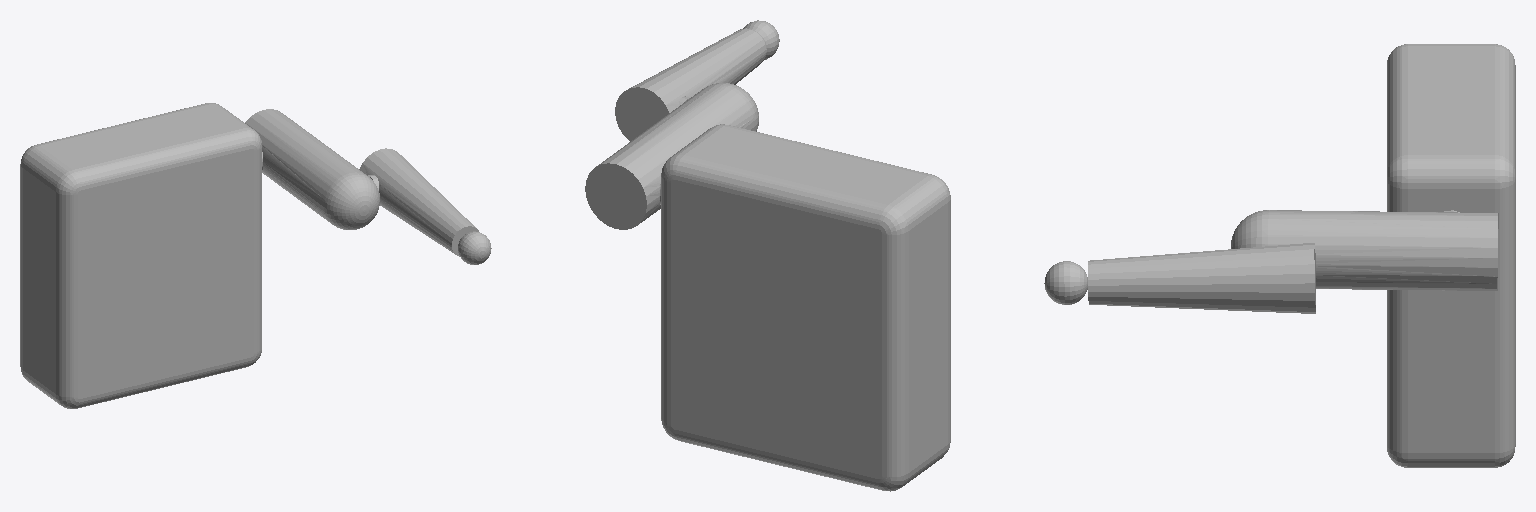
robot.urdf — humanURDF:
<?xml version="1.0" encoding="utf-8"?>
<!-- This URDF was automatically created by SolidWorks to URDF Exporter! Originally created by [author] ([email redacted]) 
     Commit Version: 1.6.0-1-g15f4949  Build Version: 1.6.7594.29634
     For more information, please see http://wiki.ros.org/sw_urdf_exporter -->
<robot
  name="humanURDF">
  <link
    name="base_link">
    <inertial>
      <origin
        xyz="-0.147380279946403 4.09803356324946E-18 -0.183688926406411"
        rpy="0 0 0" />
      <mass
        value="21.1782903595475" />
      <inertia
        ixx="0.314167968794279"
        ixy="-1.57515840667926E-17"
        ixz="-0.00152092128911395"
        iyy="0.500403583328166"
        iyz="-1.31389883452136E-09"
        izz="0.26323408507304" />
    </inertial>
    <visual>
      <origin
        xyz="0 0 0"
        rpy="0 0 0" />
      <geometry>
        <mesh
          filename="package://humanURDF/meshes/base_link.STL" />
      </geometry>
      <material
        name="">
        <color
          rgba="0.749019607843137 0.749019607843137 0.749019607843137 1" />
      </material>
    </visual>
    <collision>
      <origin
        xyz="0 0 0"
        rpy="0 0 0" />
      <geometry>
        <mesh
          filename="package://humanURDF/meshes/base_link.STL" />
      </geometry>
    </collision>
  </link>
  <link
    name="brazo_link">
    <inertial>
      <origin
        xyz="0.0501986538571646 -0.0977300384950257 0.00176645149512299"
        rpy="0 0 0" />
      <mass
        value="1.97753622371589" />
      <inertia
        ixx="0.0157981761158755"
        ixy="-2.6966120279389E-05"
        ixz="-1.59507260844094E-06"
        iyy="0.00211316900882633"
        iyz="0.000112507197754403"
        izz="0.0158808780480386" />
    </inertial>
    <visual>
      <origin
        xyz="0 0 0"
        rpy="0 0 0" />
      <geometry>
        <mesh
          filename="package://humanURDF/meshes/brazo_link.STL" />
      </geometry>
      <material
        name="">
        <color
          rgba="0.749019607843137 0.749019607843137 0.749019607843137 1" />
      </material>
    </visual>
    <collision>
      <origin
        xyz="0 0 0"
        rpy="0 0 0" />
      <geometry>
        <mesh
          filename="package://humanURDF/meshes/brazo_link.STL" />
      </geometry>
    </collision>
  </link>
  <joint
    name="brazo_joint"
    type="continuous">
    <origin
      xyz="0.049284658059624 0 -0.0640498975439988"
      rpy="0 0 0" />
    <parent
      link="base_link" />
    <child
      link="brazo_link" />
    <axis
      xyz="-1 0 0" />
  </joint>
  <link
    name="antebrazo_link">
    <inertial>
      <origin
        xyz="0.0436519728379535 -0.0874871117981463 -0.00130930871816355"
        rpy="0 0 0" />
      <mass
        value="1.00812958445801" />
      <inertia
        ixx="0.00754277884263541"
        ixy="-0.000153723622133985"
        ixz="-3.53540231519263E-06"
        iyy="0.000601748852949274"
        iyz="-0.0001831113070396"
        izz="0.00751716655766249" />
    </inertial>
    <visual>
      <origin
        xyz="0 0 0"
        rpy="0 0 0" />
      <geometry>
        <mesh
          filename="package://humanURDF/meshes/antebrazo_link.STL" />
      </geometry>
      <material
        name="">
        <color
          rgba="0.749019607843137 0.749019607843137 0.749019607843137 1" />
      </material>
    </visual>
    <collision>
      <origin
        xyz="0 0 0"
        rpy="0 0 0" />
      <geometry>
        <mesh
          filename="package://humanURDF/meshes/antebrazo_link.STL" />
      </geometry>
    </collision>
  </link>
  <joint
    name="antebrazo_joint"
    type="continuous">
    <origin
      xyz="0.0893153894032891 -0.197868013214099 0.00343687354219388"
      rpy="0 0 0" />
    <parent
      link="brazo_link" />
    <child
      link="antebrazo_link" />
    <axis
      xyz="-0.999701434390246 0.011113823153 -0.0217606298854042" />
  </joint>
</robot>

--- Render facts (derived) ---
3 views of the same robot in one strip: view 1: azimuth 30°, elevation 25°; view 2: azimuth 150°, elevation 25°; view 3: azimuth 270°, elevation 25° (orthographic).
Robot: humanURDF — 3 links, 2 joints (2 continuous); root link base_link; default pose: all joints at 0.
Visible links, largest first — view 1: base_link, antebrazo_link, brazo_link; view 2: base_link, antebrazo_link, brazo_link; view 3: base_link, antebrazo_link, brazo_link.
Boxes of the visible links, <box> form: base_link: <box>20,103,490,408</box>; antebrazo_link: <box>40,108,491,408</box>; brazo_link: <box>67,110,487,263</box>; base_link: <box>585,20,949,491</box>; antebrazo_link: <box>600,21,950,489</box>; brazo_link: <box>609,21,888,428</box>; base_link: <box>1044,44,1515,467</box>; antebrazo_link: <box>1045,46,1514,466</box>; brazo_link: <box>1045,47,1514,300</box>.
Bounding box of the posed robot: 0.5525 × 0.5495 × 0.4 m (x, y, z).
Meshes: 3 distinct files referenced, 3 mesh visuals loaded (3 binary STL).